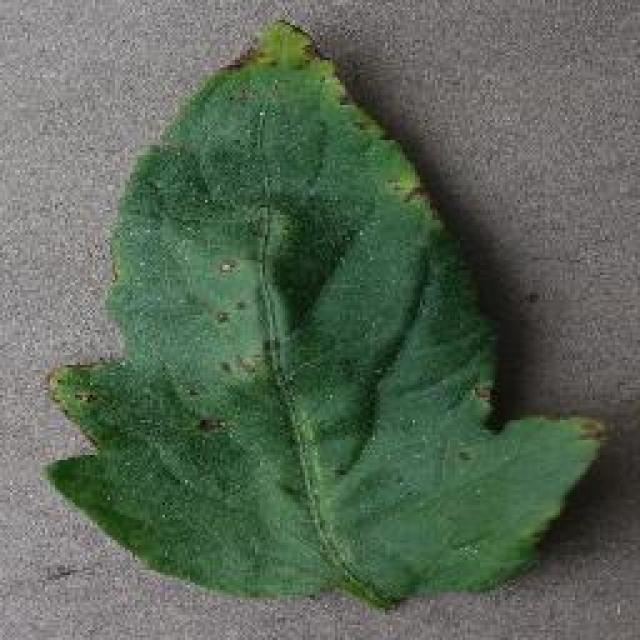Tomato___Bacterial_spot: (38, 17, 614, 618)
